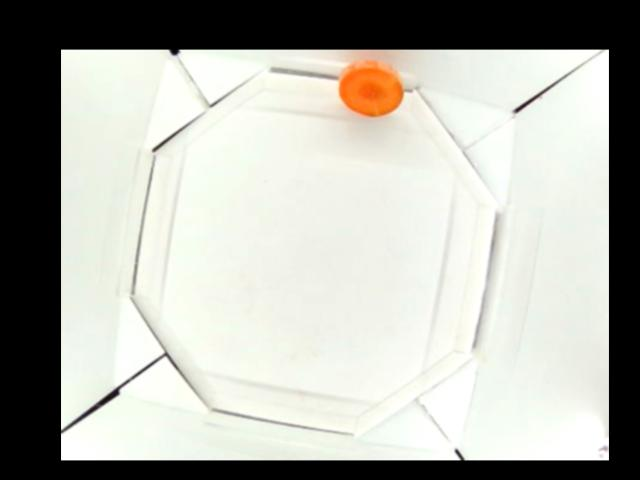Carrot: (337, 60, 405, 116)
